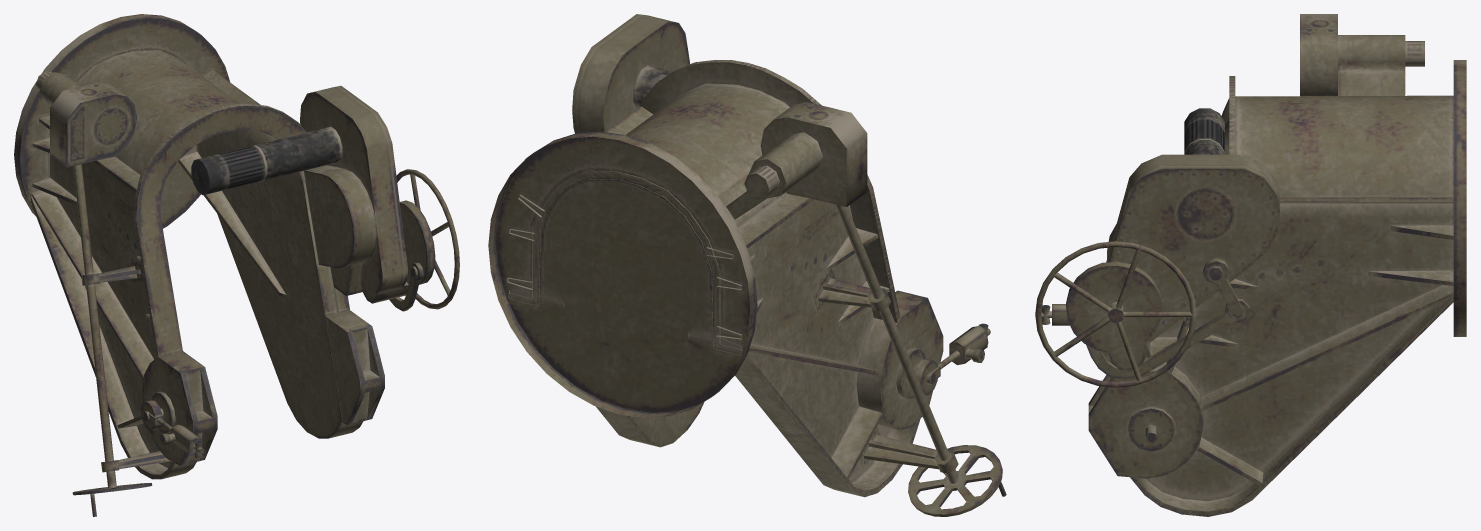
The model's file is Turret_01.glb.
The picture shows the model from 3 angles, left to right: view 1: azimuth 30°, elevation 25°; view 2: azimuth 150°, elevation 25°; view 3: azimuth 270°, elevation 25°; orthographic projection. The views are drawn at different scales.
Visible parts, largest first — view 1: set_0_group_0; view 2: set_0_group_0; view 3: set_0_group_0.
Boxes of the visible parts, x1,y1,x2,y2 form: set_0_group_0: (14,14,459,516); set_0_group_0: (488,14,1006,516); set_0_group_0: (1035,14,1466,516).
Size of the model in its own units: 1.92 by 2.02 by 1.97.
1 material, 1 textured.
